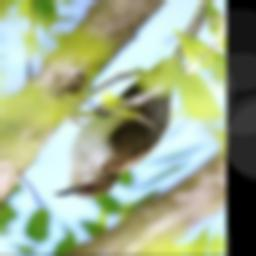Cuckoo: (53, 0, 217, 200)
